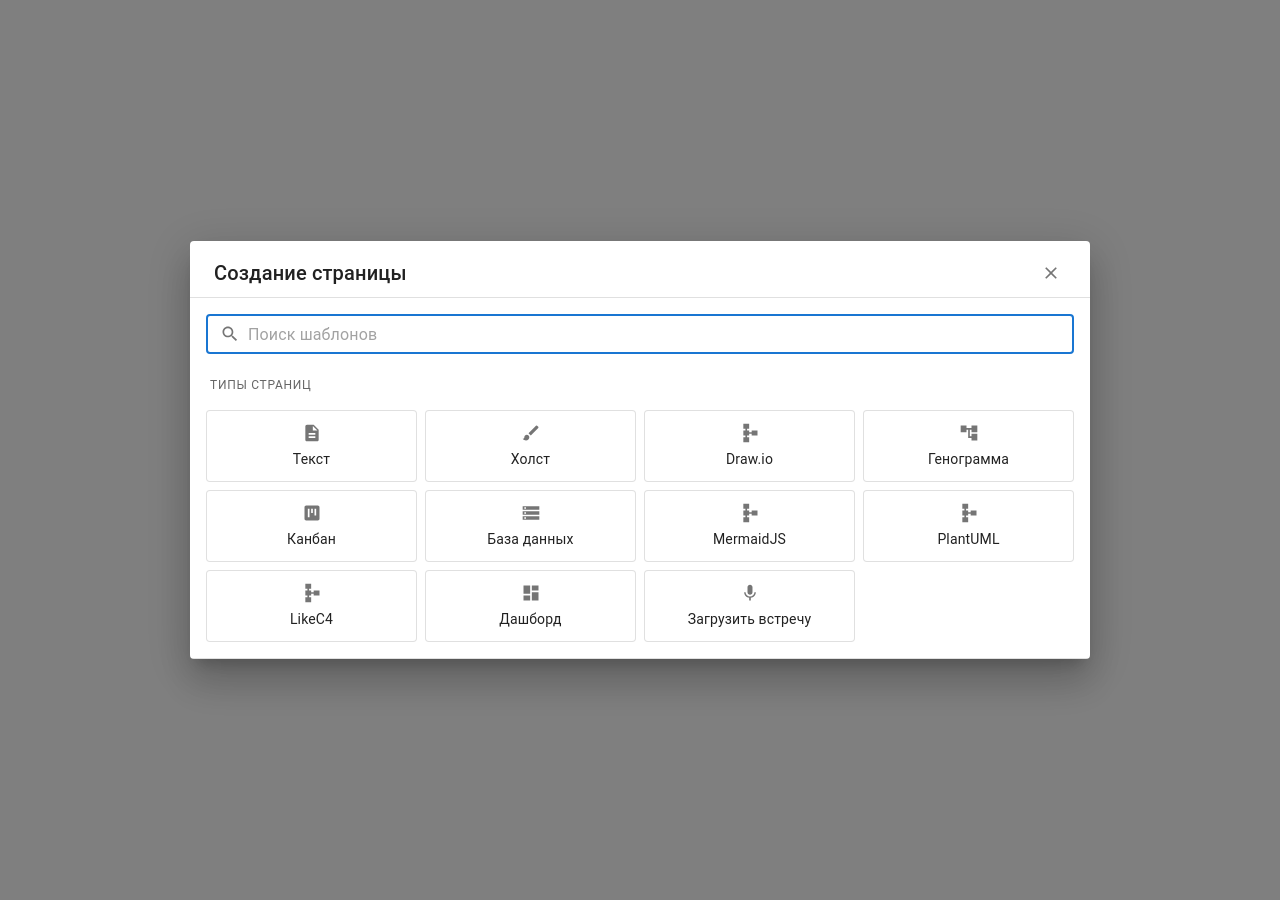
Scenario: CreatePageDialog › shows an empty state when no templates match
Type "zzz" into the field labelled "Поиск шаблонов" at (661, 334), box [248,314,1074,354]
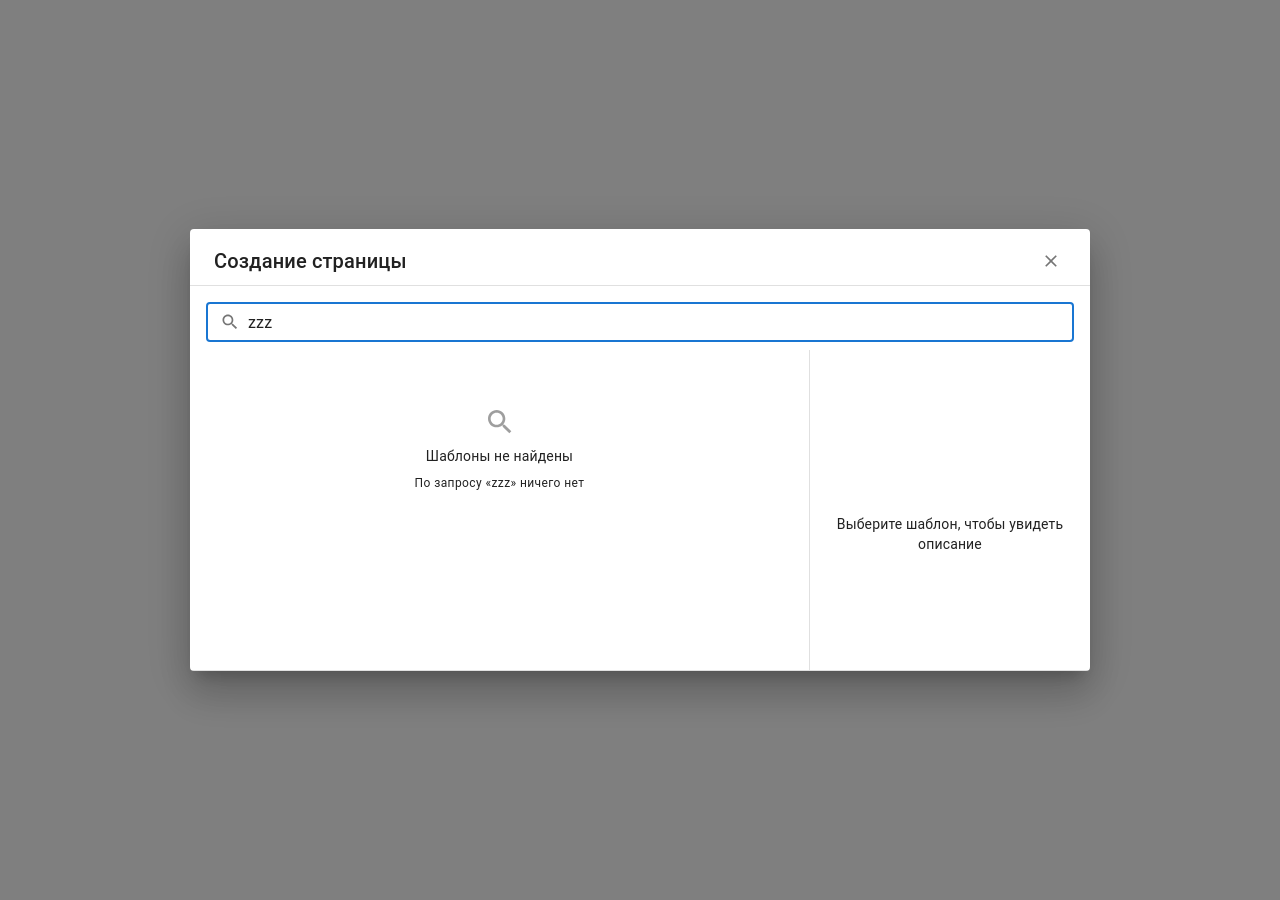
Expected: the text "Шаблоны не найдены" is shown, [426,446,573,466]
